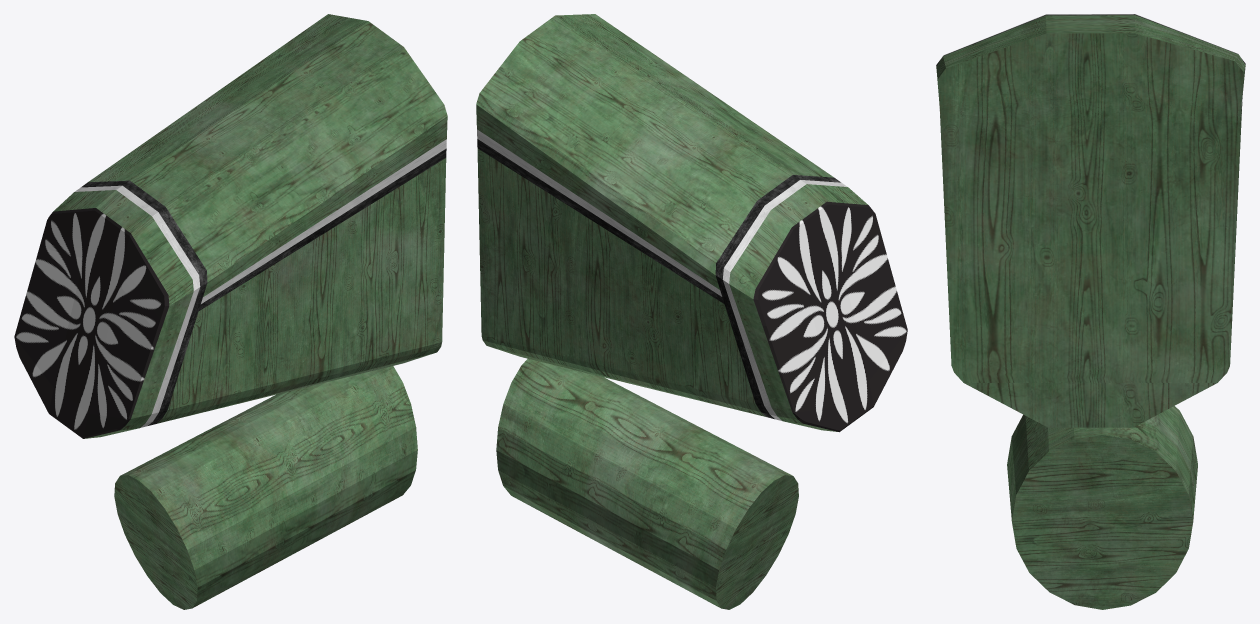
Rendered from SM_R_Beam_23.fbx.
3 renders of one model, left to right at view 1: azimuth 30°, elevation 25°; view 2: azimuth 150°, elevation 25°; view 3: azimuth 270°, elevation 25°, orthographic. The views are drawn at different scales.
Parts seen in each view (by area): view 1: SM_R_Beam_23; view 2: SM_R_Beam_23; view 3: SM_R_Beam_23.
Part boxes in pixels (x1,y1,x2,y2): SM_R_Beam_23: (14,14,447,609); SM_R_Beam_23: (476,14,907,609); SM_R_Beam_23: (936,14,1245,609).
Size of the model in its own units: 38.76 by 26.05 by 60.46.
Materials: 3 (3 with a texture image).
